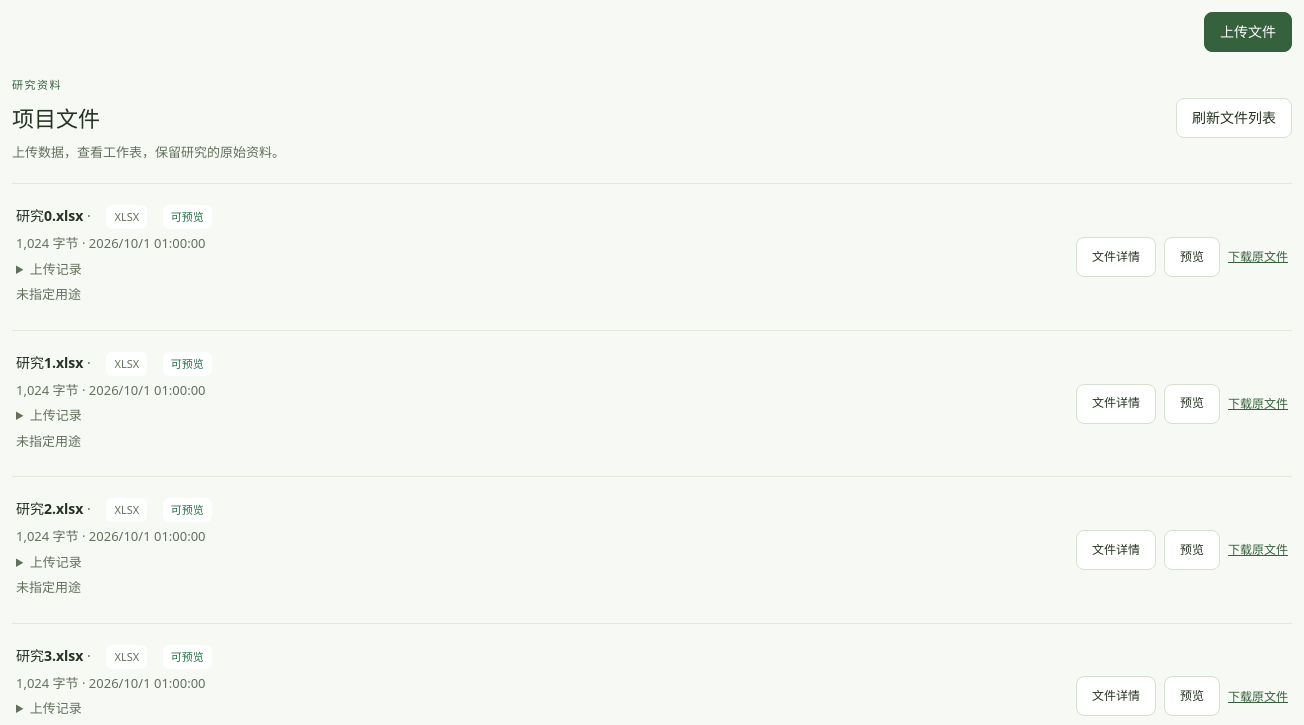
a network save failure retains choices and does not clear the existing metadata
Click the 1st button "文件详情". click: coordinates (1116, 257)
box: [1076,237,1156,277]
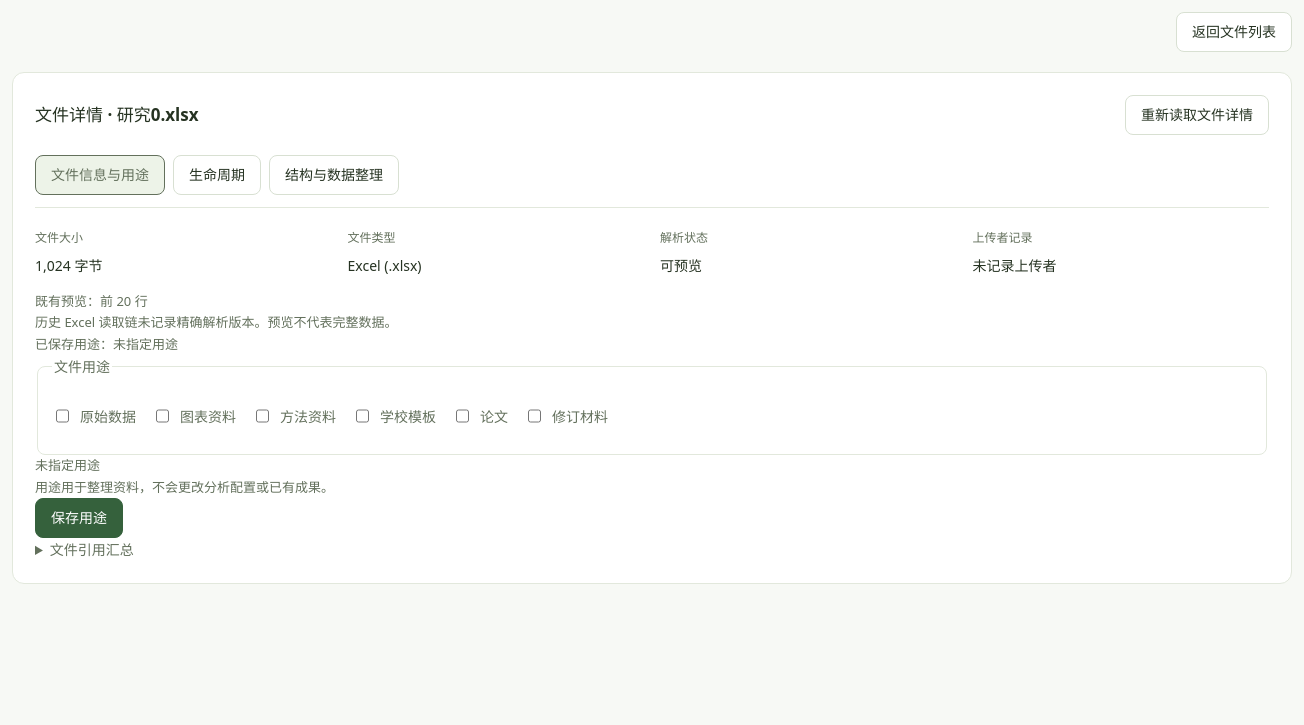
Click the checkbox labelled "修订材料". click: coordinates (534, 416)
box: [528,395,541,437]
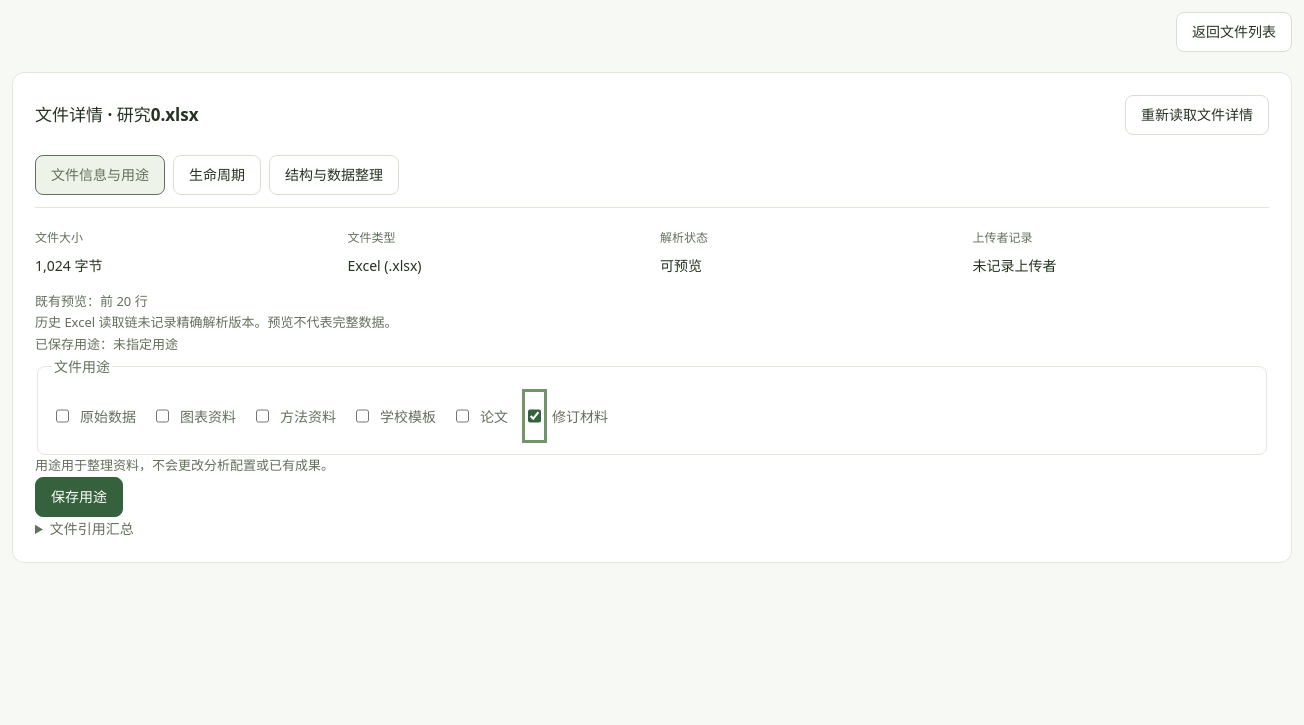
Click the button "保存用途". click: coordinates (79, 497)
box: [35,477,123,517]
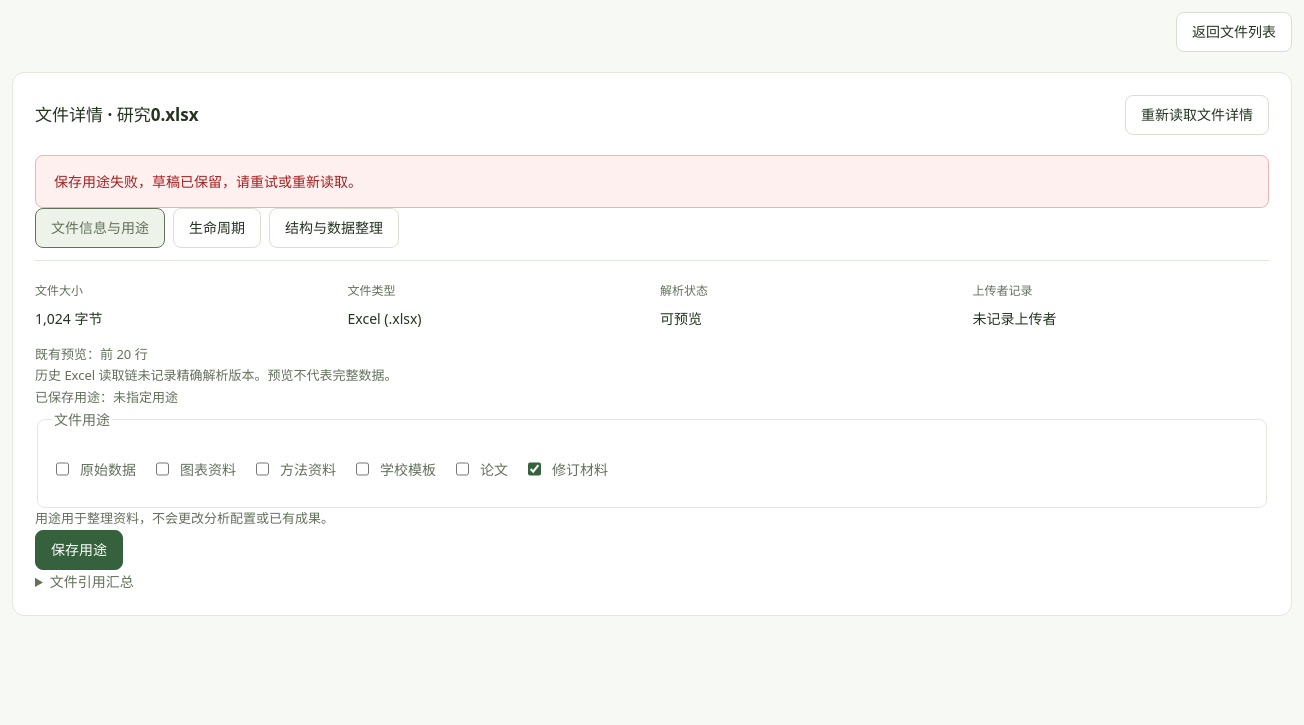
Expected: the checkbox labelled "修订材料" is checked, [528,448,541,490]
Expected: the heading "文件引用汇总" is shown, [50,572,134,591]
Expected: the message "保存用途失败，草稿已保留，请重试或重新读取。" is shown, [35,155,1269,208]
